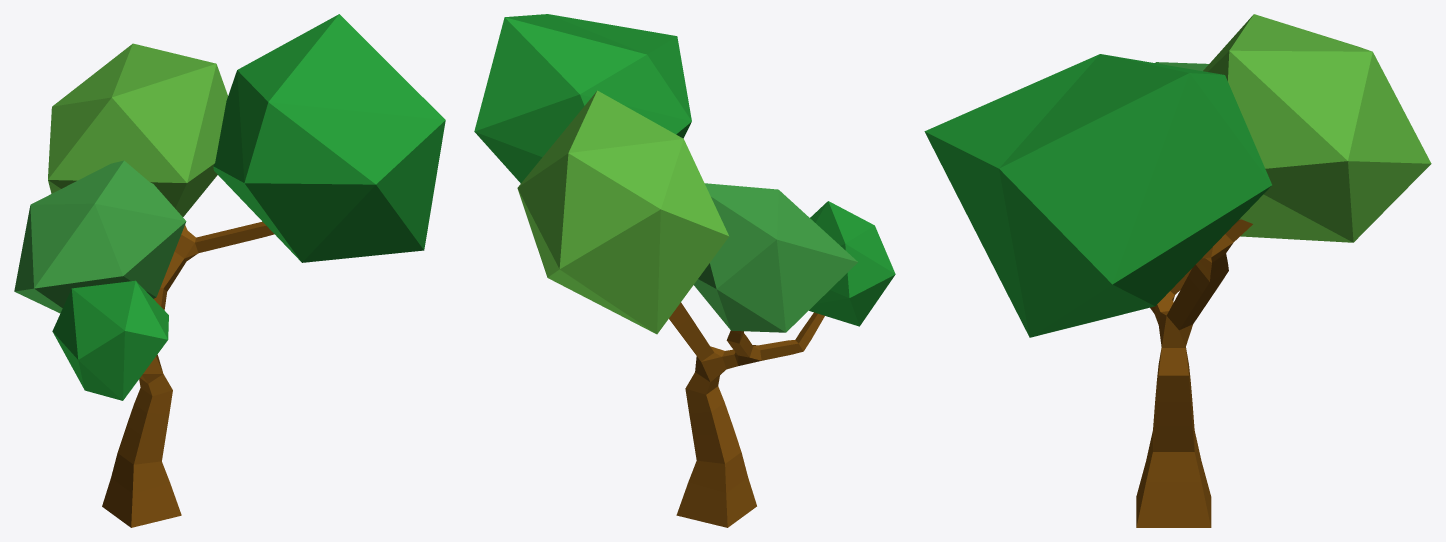
The model's file is lake boom.fbx.
3 views of the same model, side by side, from view 1: azimuth 30°, elevation 25°; view 2: azimuth 150°, elevation 25°; view 3: azimuth 270°, elevation 25° (orthographic). The views are drawn at different scales.
Parts seen in each view (by area): view 1: Cube; view 2: Cube; view 3: Cube.
Boxes of the visible parts, x1,y1,x2,y2 form: Cube: (14,14,445,527); Cube: (474,14,895,527); Cube: (924,14,1431,527).
Bounding box in the file's own units: 3 × 3.35 × 2.72.
